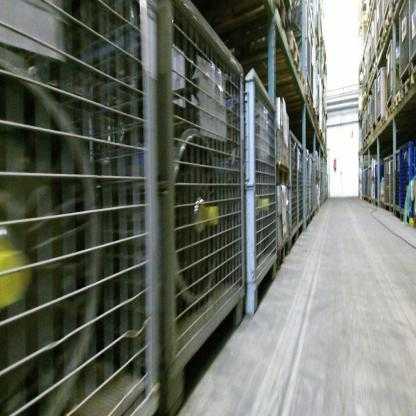pallet: (215, 31, 300, 83), (192, 4, 289, 40), (262, 67, 306, 96), (276, 83, 310, 105), (275, 238, 291, 271), (274, 161, 289, 192), (379, 27, 399, 48), (382, 9, 396, 34), (377, 43, 392, 60), (401, 77, 411, 100), (372, 57, 384, 74), (386, 101, 395, 122), (393, 89, 401, 111), (310, 114, 319, 131), (410, 65, 416, 89), (308, 103, 314, 121), (367, 10, 373, 28), (381, 111, 388, 126), (370, 67, 378, 79), (376, 117, 381, 135), (368, 1, 376, 11), (362, 92, 368, 105), (367, 77, 372, 91), (361, 140, 368, 150), (373, 124, 378, 137), (366, 134, 371, 146), (324, 50, 330, 59), (370, 131, 375, 141), (412, 217, 416, 229), (370, 199, 375, 205), (315, 178, 319, 184), (381, 202, 385, 207)
stillage: (77, 0, 251, 412), (1, 2, 165, 411), (174, 52, 279, 325), (290, 9, 311, 87), (400, 139, 415, 223), (385, 38, 404, 104), (290, 123, 298, 249), (398, 2, 410, 86), (377, 65, 392, 123), (298, 132, 304, 246), (395, 143, 404, 216), (304, 140, 310, 228), (308, 33, 315, 102), (384, 153, 391, 211), (410, 0, 415, 73), (371, 80, 378, 132), (375, 161, 382, 205), (390, 151, 395, 211), (367, 26, 373, 76), (367, 93, 373, 139), (375, 1, 380, 53), (372, 12, 377, 61), (364, 49, 369, 87), (379, 2, 384, 37), (383, 1, 390, 23), (368, 165, 372, 203), (362, 109, 366, 145), (363, 165, 367, 199), (365, 104, 368, 140), (366, 167, 369, 197), (361, 170, 364, 200)
